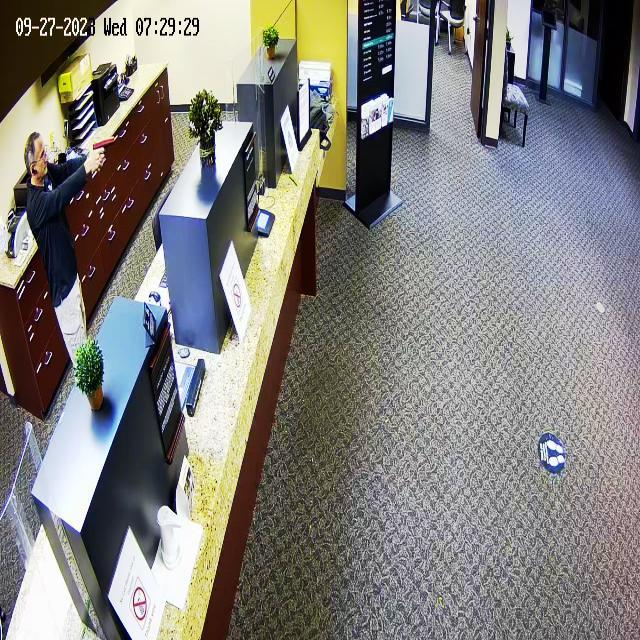Gun: (87, 133, 119, 181)
